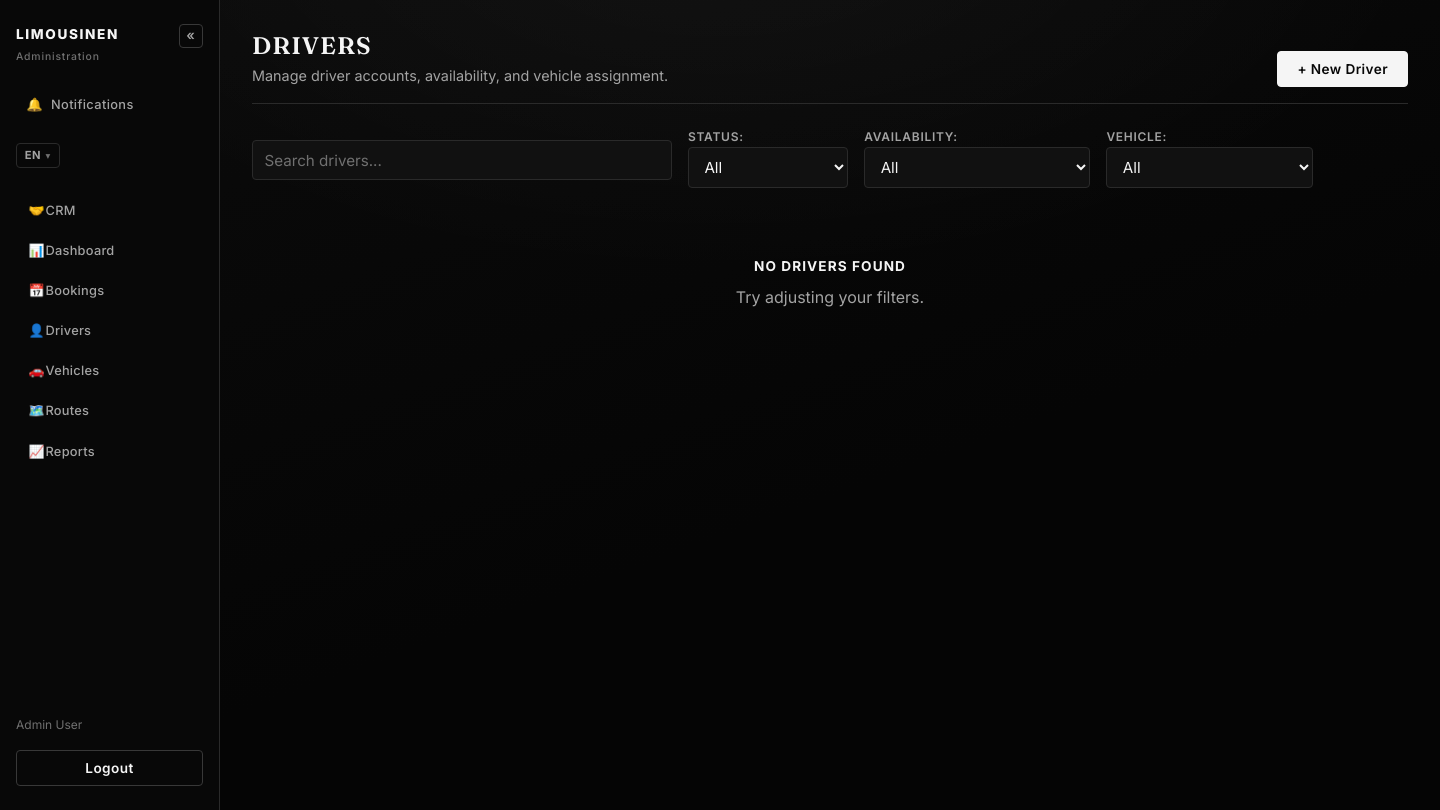
it: DriversPage › shows the backend's duplicate-email error inside the form
Expected: the text "No Drivers Found" is shown, [754, 258, 906, 274]
Click the button "+ New Driver" at {"x": 1343, "y": 69}, box [1278, 52, 1408, 87]
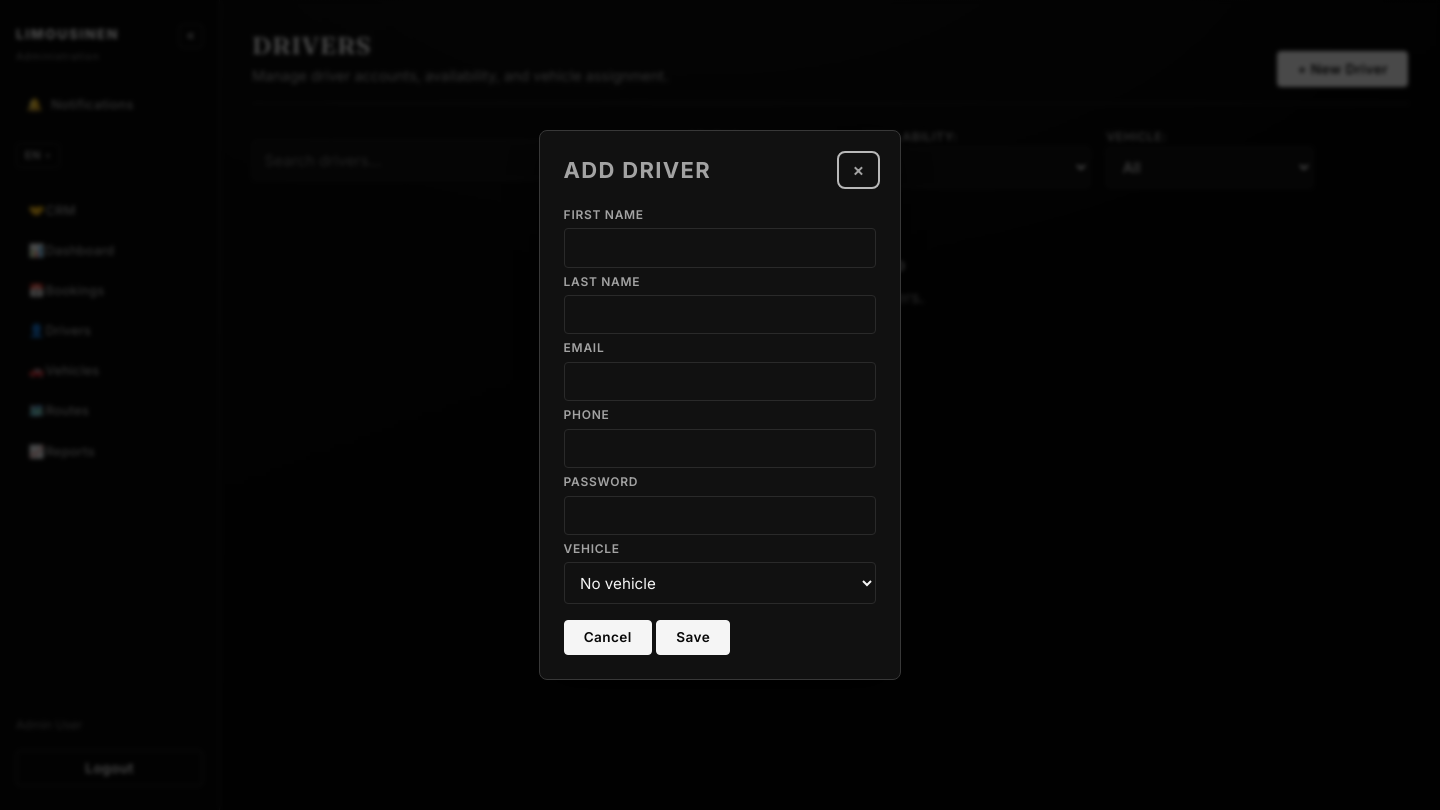
Type "John" into the field labelled "First name" at {"x": 720, "y": 248}, box [564, 228, 876, 268]
Type "Smith" into the field labelled "Last name" at {"x": 720, "y": 315}, box [564, 295, 876, 334]
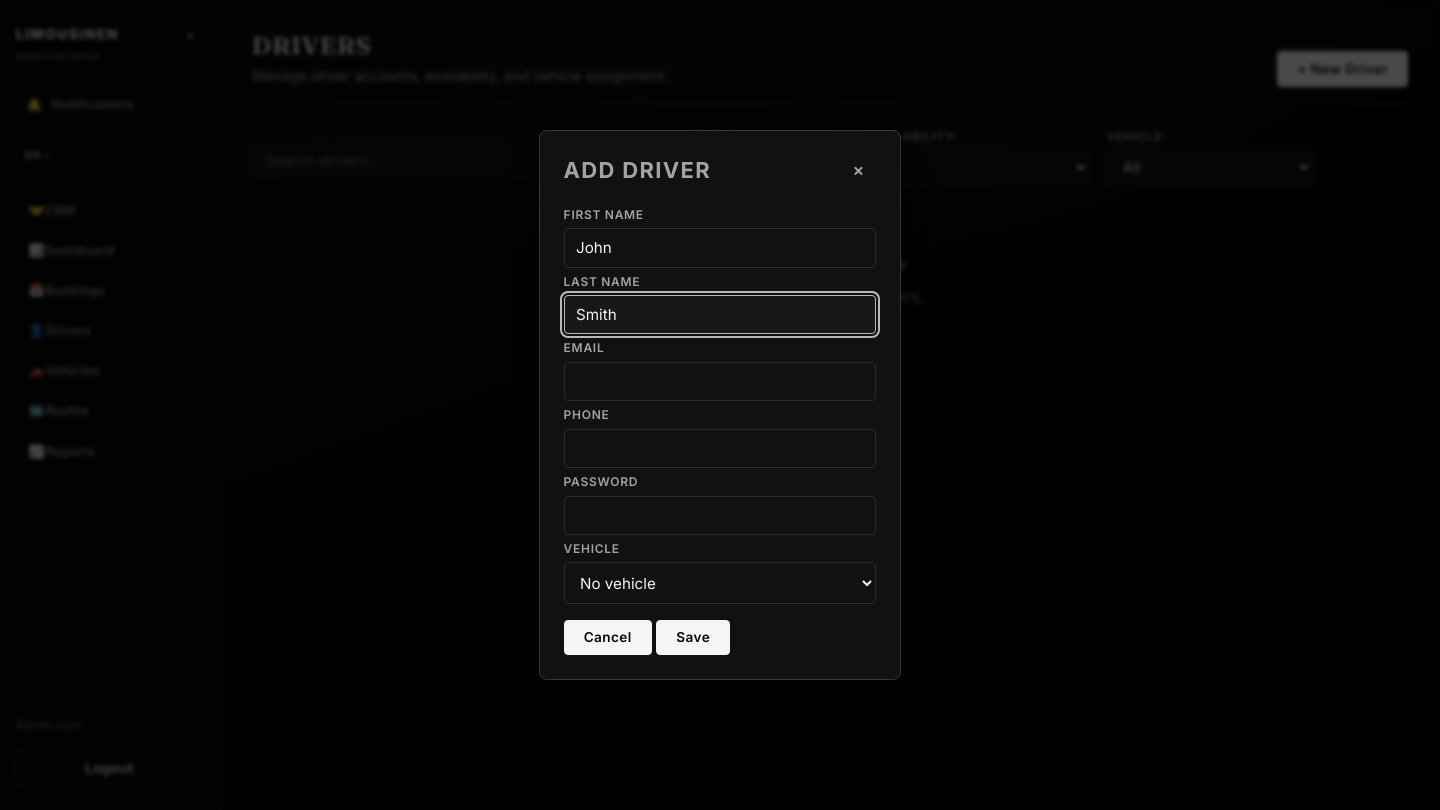
Type "john.smith@example.com" into the field labelled "Email" at {"x": 720, "y": 382}, box [564, 362, 876, 401]
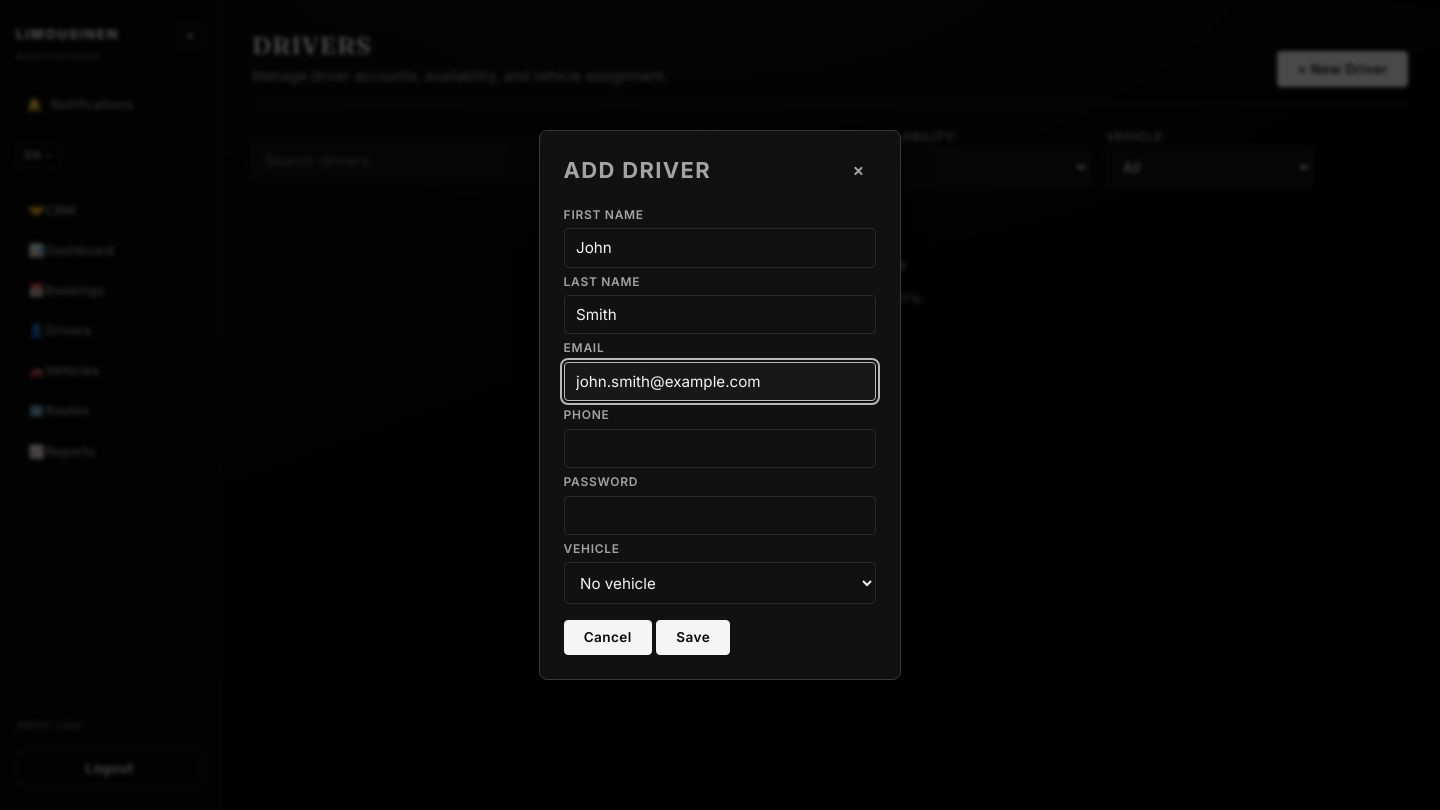
Type "+41791234567" into the field labelled "Phone" at {"x": 720, "y": 448}, box [564, 429, 876, 468]
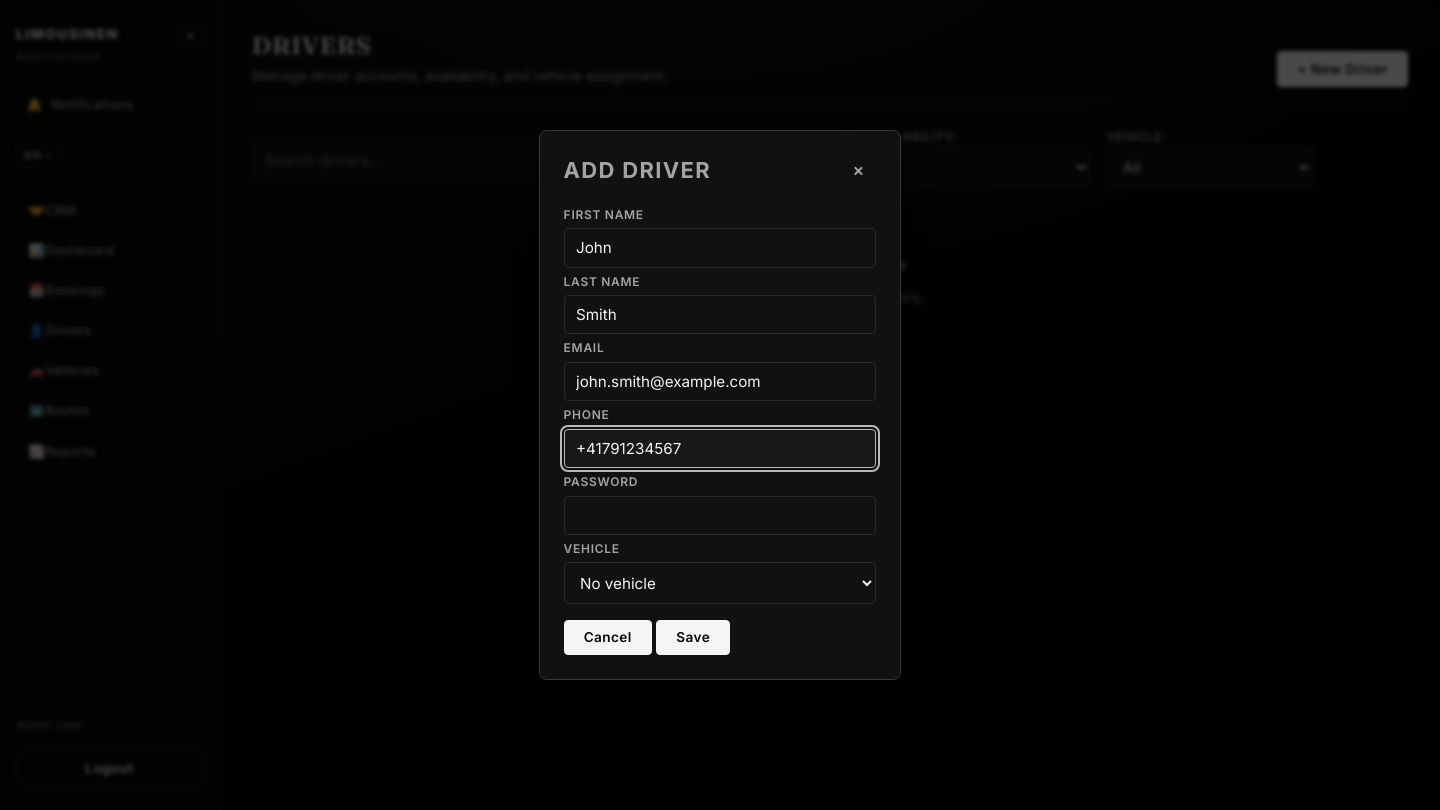
Type "Test#Passw0rd!" into the password field labelled "Password" at {"x": 720, "y": 515}, box [564, 496, 876, 535]
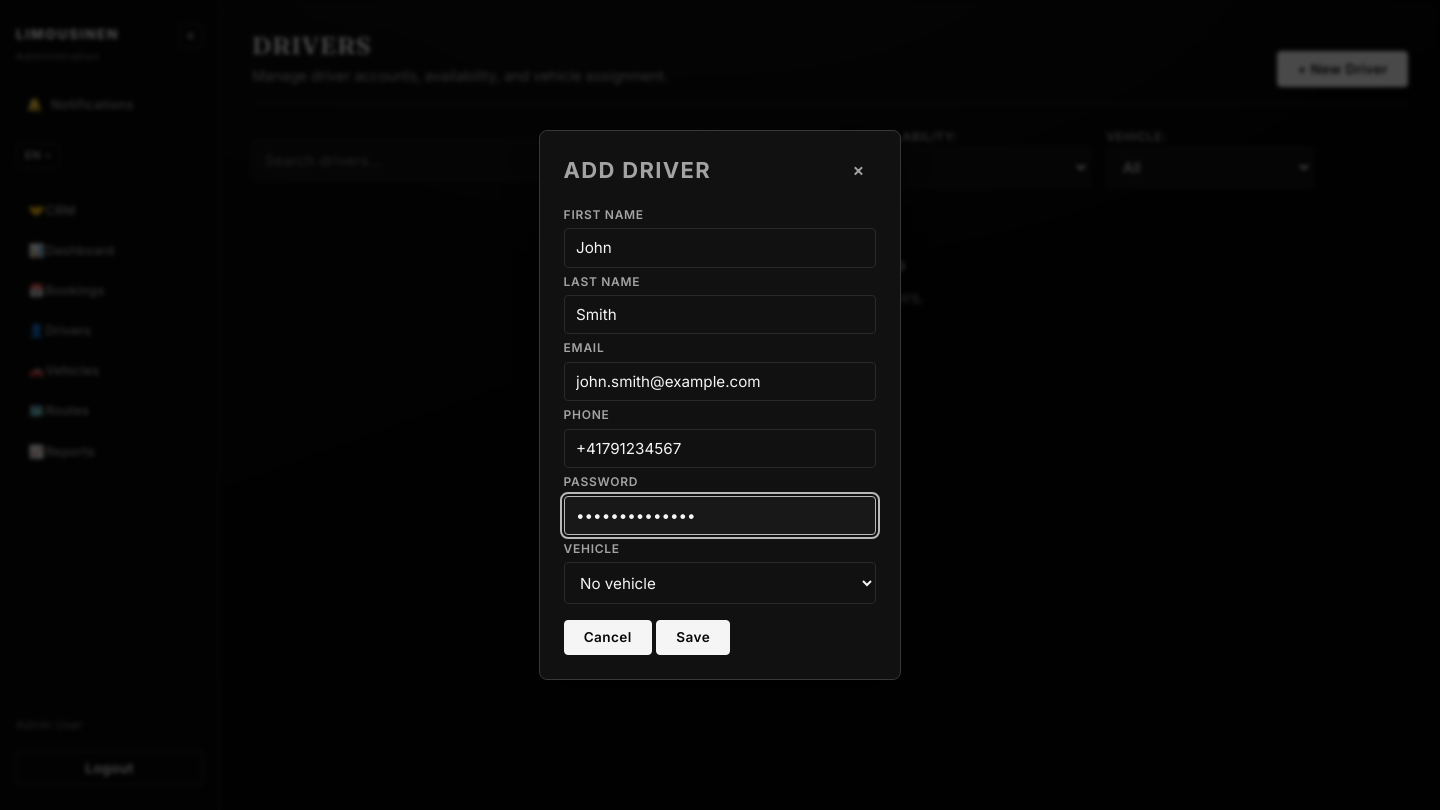
Click the button "Save" at {"x": 693, "y": 637}, box [656, 620, 730, 655]
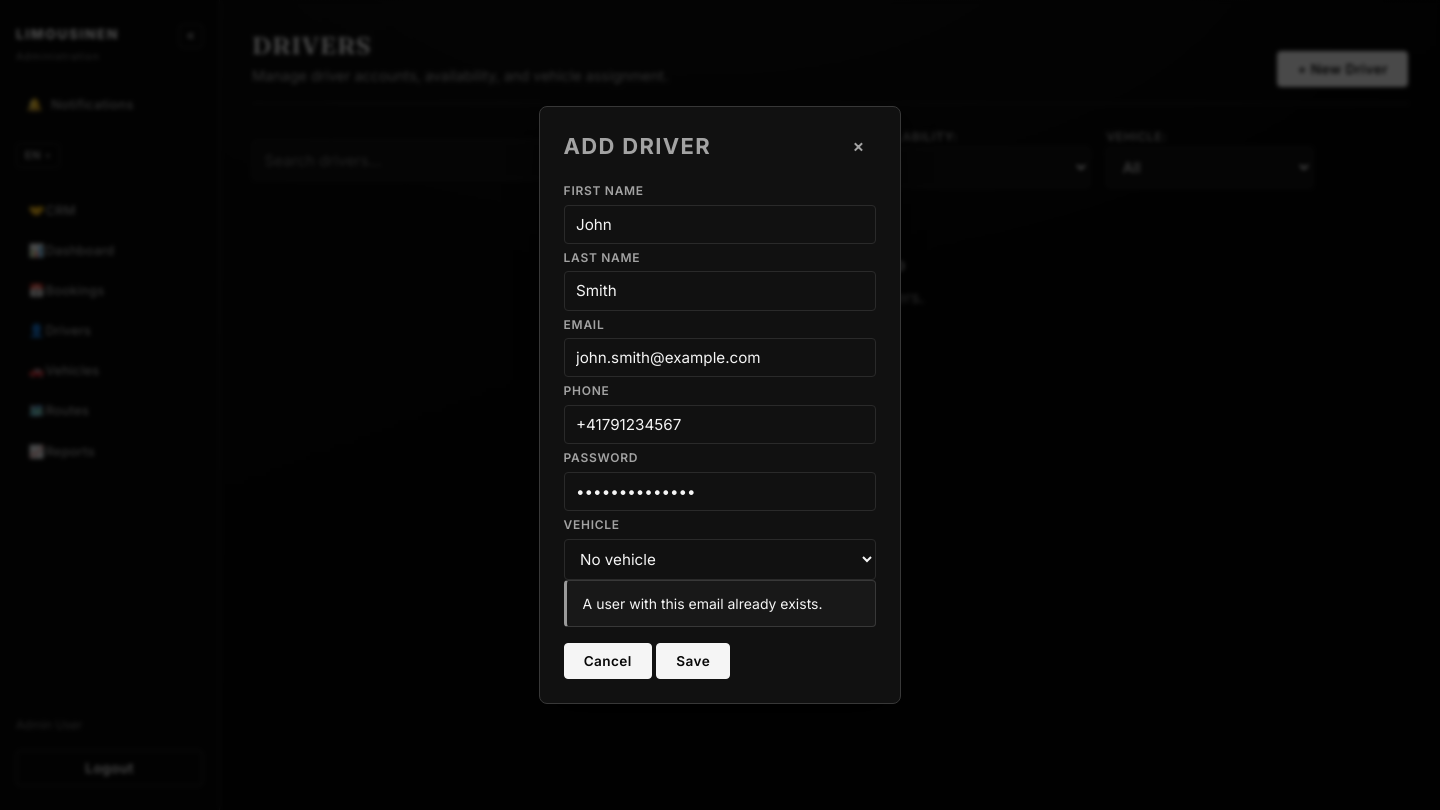
Now the text "A user with this email already exists." is shown, box [564, 580, 876, 628]
